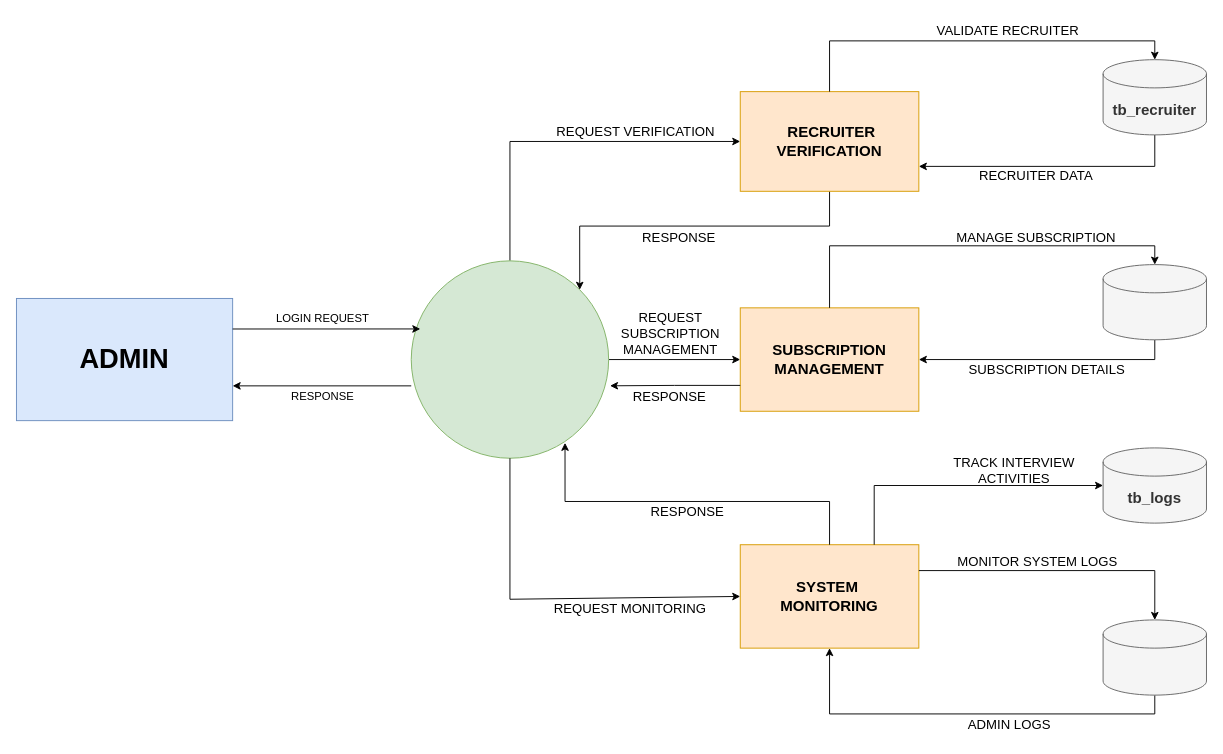
Image size: 1223x754. Some labels were removed from this diagram. The shapes that lost their labels are listed below. From the top down, each one's box as (x1, y1, x2, y2) in pixels, then its label:
(1102, 264, 1206, 340): tb_subscription
(410, 260, 609, 458): AI INTERVIEW PLATROFRM
(1102, 619, 1206, 695): tb_admin
